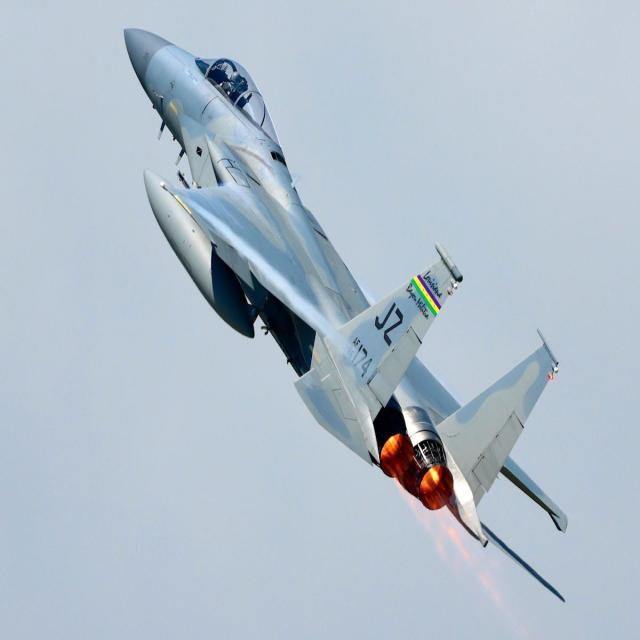F15: (105, 6, 619, 615)
